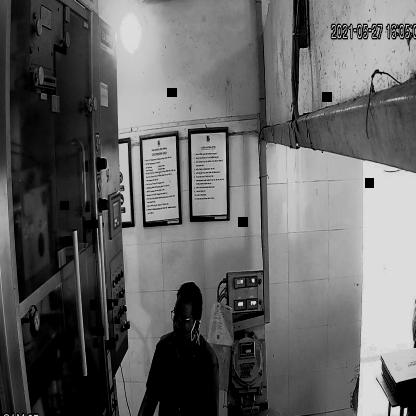goggles: (168, 308, 201, 333)
